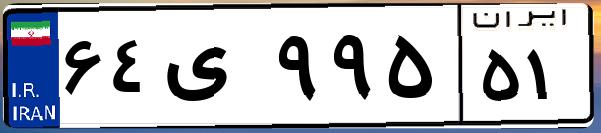1: (525, 38, 570, 115)
4: (110, 28, 158, 98)
5: (385, 28, 445, 110), (475, 38, 525, 113)
6: (57, 26, 110, 100)
9: (270, 28, 330, 110), (330, 28, 385, 110)
ی: (158, 20, 270, 120)
